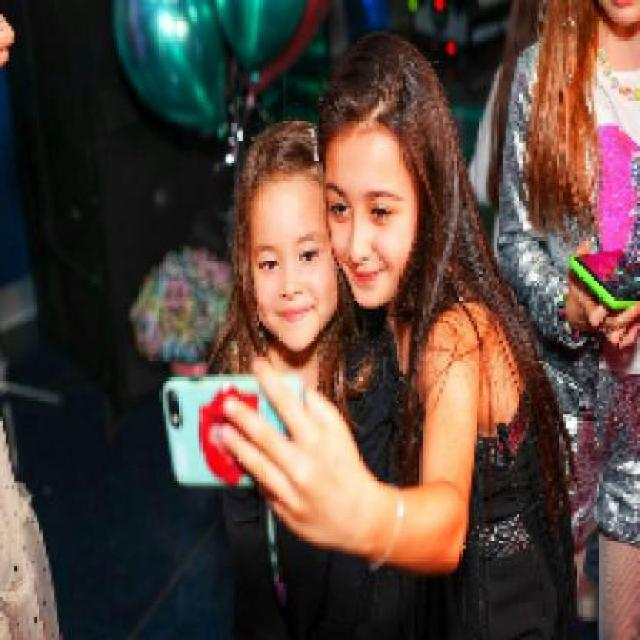child: (220, 117, 403, 637)
